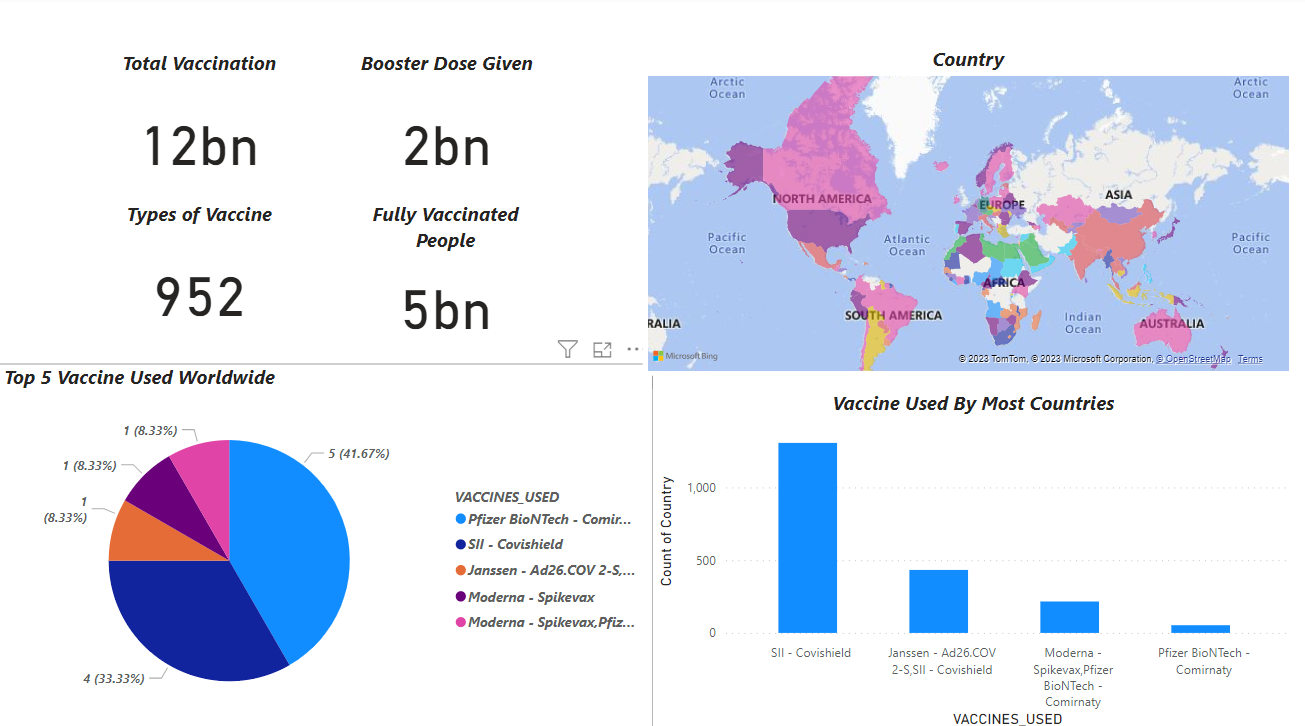

What the dashboard file says about the page in this screenshot:
{"tool":"powerbi","page":{"name":"Page 2","canvas":[1280,720],"ordinal":1},"visuals":[{"type":"card","title":"Total Vaccination","fields":{"Values":["Sum(vaccination-data.TOTAL_VACCINATIONS)"]},"box":[97.4,52.1,196.2,148.2],"z":0},{"type":"card","title":"Booster Dose Given","fields":{"Values":["Sum(vaccination-data.PERSONS_BOOSTER_ADD_DOSE)"]},"box":[340.3,52.1,196.2,148.2],"z":1},{"type":"card","title":"Fully Vaccinated People","fields":{"Values":["Sum(vaccination-data.PERSONS_FULLY_VACCINATED)"]},"box":[338.9,200.3,196.2,148.2],"z":2},{"type":"card","title":"Types of Vaccine","fields":{"Values":["Sum(vaccination-data.NUMBER_VACCINES_TYPES_USED)"]},"box":[97.4,200.3,196.2,148.2],"z":3},{"type":"pieChart","title":"Top 5 Vaccine Used Worldwide","fields":{"Category":["vaccination-data.VACCINES_USED"],"Y":["CountNonNull(vaccination-data.VACCINES_USED)"]},"box":[0,359.5,639.5,360.9],"z":4},{"type":"columnChart","title":"Vaccine Used By Most Countries","fields":{"Y":["CountNonNull(WHO-COVID-19-global-data.Country)"],"Category":["vaccination-data.VACCINES_USED"]},"box":[639.5,385.6,627.1,334.8],"z":5},{"type":"filledMap","title":"Country ","fields":{"Category":["WHO-COVID-19-global-data.Country"],"Series":["vaccination-data.NUMBER_VACCINES_TYPES_USED"]},"box":[629.8,49.4,636.7,322.5],"z":6}]}

Visuals, with their boxes in screenshot pixels (x1, y1, x2, y2), scaled from the page's 1280x720 canvas onto the 1305x726 screenshot:
"Total Vaccination" card: detection(99, 53, 299, 202)
"Booster Dose Given" card: detection(347, 53, 547, 202)
"Fully Vaccinated People" card: detection(346, 202, 546, 351)
"Types of Vaccine" card: detection(99, 202, 299, 351)
"Top 5 Vaccine Used Worldwide" pieChart: detection(0, 362, 652, 725)
"Vaccine Used By Most Countries" columnChart: detection(652, 389, 1291, 725)
"Country " filledMap: detection(642, 50, 1291, 375)
